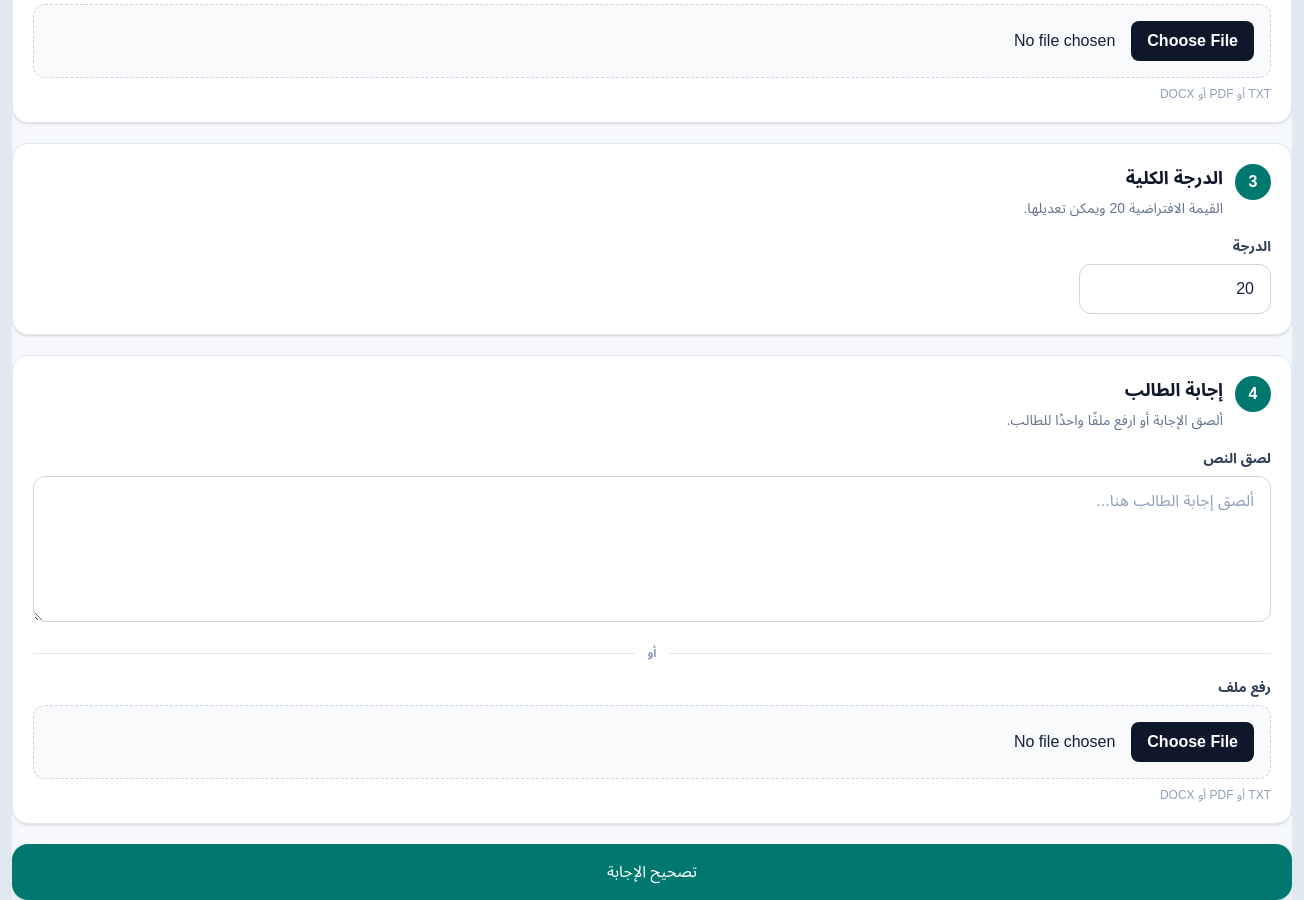
Test: GraderForm › shows validation errors when submitting with all fields empty
The width and height of the screenshot is (1304, 900).
(page scrolled)
Click the button "تصحيح الإجابة". click: point(652, 872)
box: [12, 844, 1292, 899]
(page scrolled)
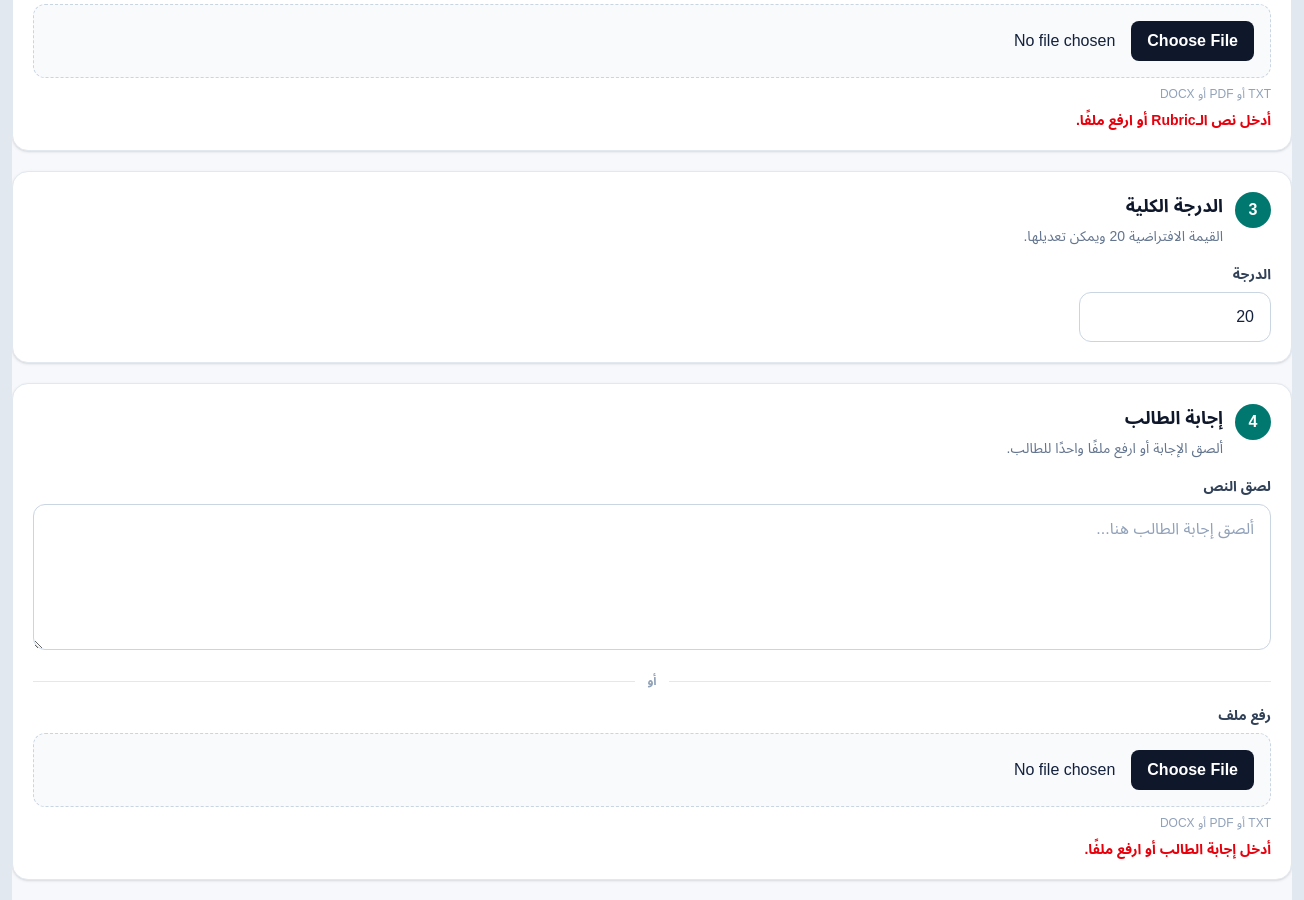
Check: the text "أدخل نص الـRubric أو ارفع ملفًا." is shown, box [1076, 112, 1271, 128]
Check: the text "أدخل إجابة الطالب أو ارفع ملفًا." is shown, box [1084, 841, 1271, 857]
